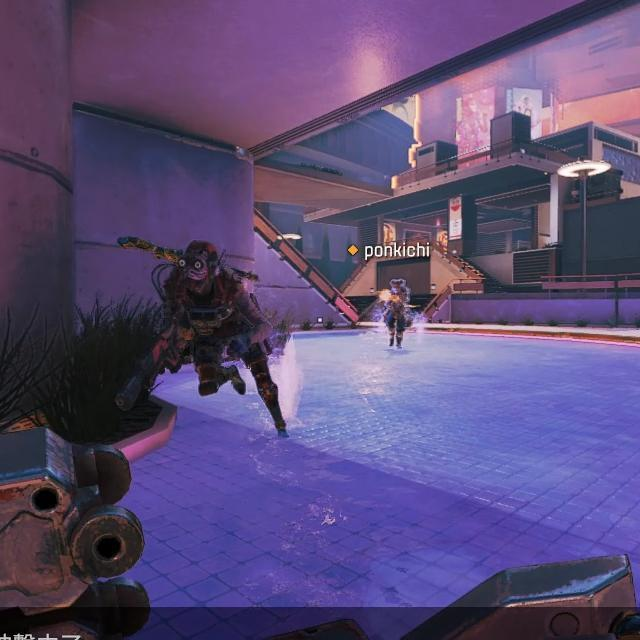avatar: (152, 239, 276, 400), (379, 276, 411, 350)
